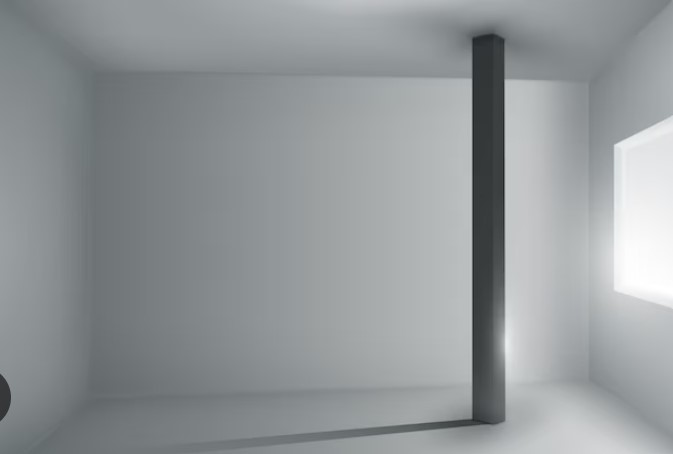pillar: (472, 33, 505, 428)
wall: (90, 71, 591, 396), (1, 2, 91, 454), (591, 1, 673, 442)
window: (612, 114, 673, 309)
